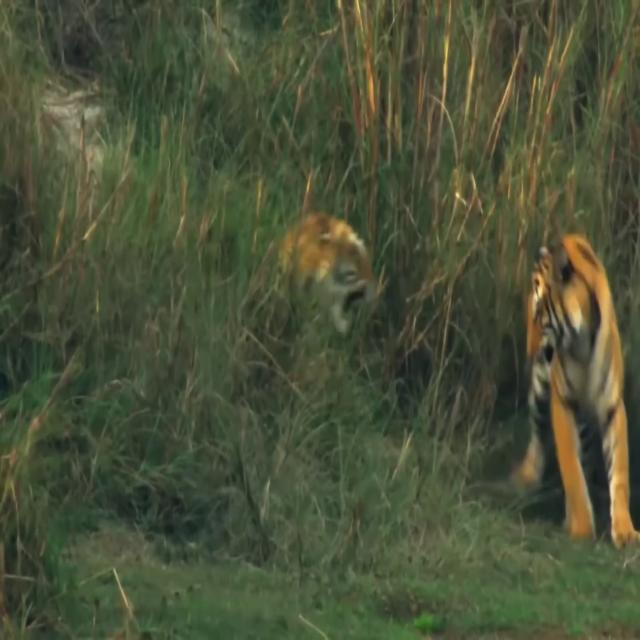tiger: (519, 236, 640, 546)
